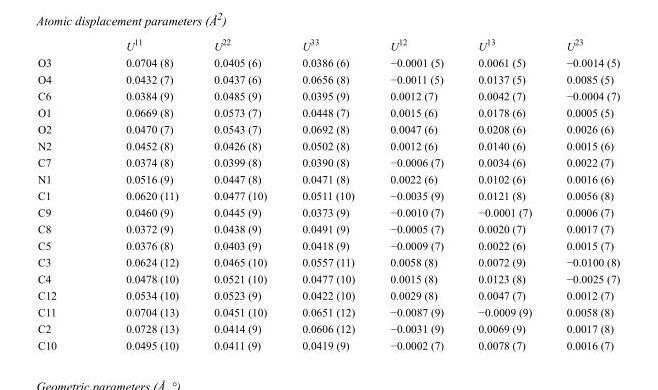table: (37, 36, 619, 351)
table column: (90, 36, 195, 351), (371, 36, 460, 351), (195, 36, 283, 351), (283, 36, 371, 351), (460, 36, 548, 351), (548, 36, 619, 351), (37, 36, 90, 351)
table column header: (37, 36, 619, 53)
table row: (37, 36, 619, 53), (37, 53, 619, 70), (37, 70, 619, 87), (37, 103, 619, 120), (37, 120, 619, 137), (37, 153, 619, 170), (37, 186, 619, 203), (37, 203, 619, 220), (37, 236, 619, 253), (37, 253, 619, 270), (37, 286, 619, 303), (37, 319, 619, 336), (37, 87, 619, 103), (37, 137, 619, 153), (37, 170, 619, 186), (37, 220, 619, 236), (37, 270, 619, 286), (37, 303, 619, 319), (37, 336, 619, 351)
